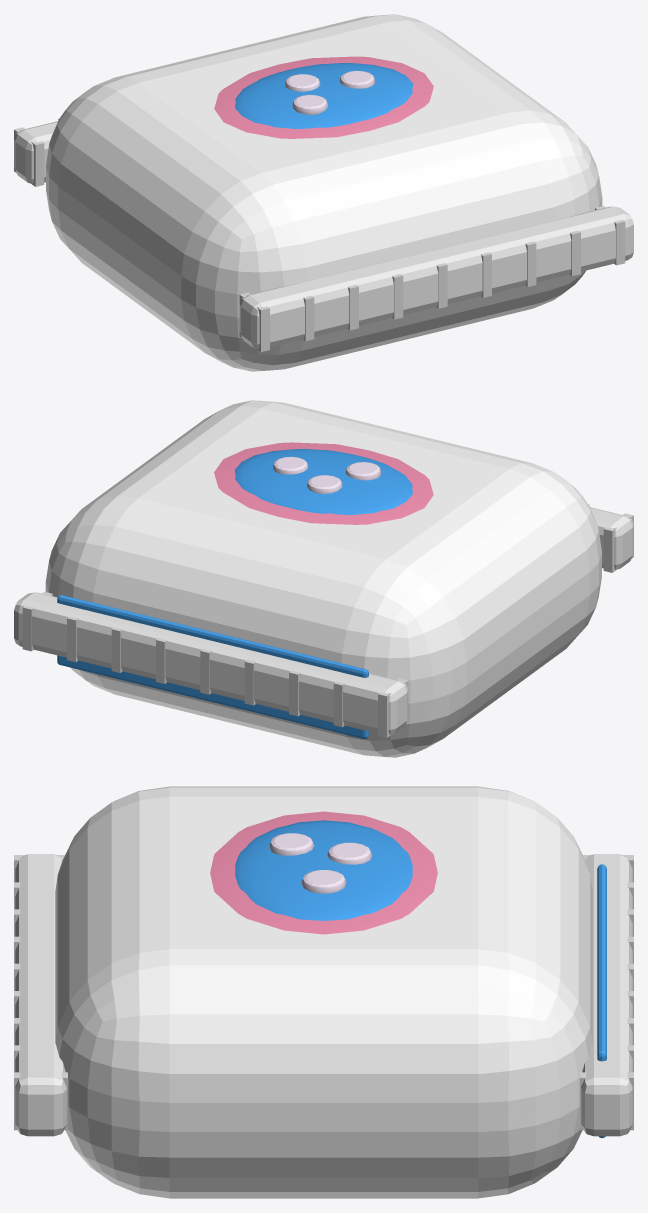
File: marshmallows.fbx
The picture shows the model from 3 angles, top to bottom: view 1: azimuth 30°, elevation 25°; view 2: azimuth 150°, elevation 25°; view 3: azimuth 270°, elevation 25°; orthographic projection. The views are drawn at different scales.
Parts seen in each view (by area): view 1: Industrial Marshmallows; view 2: Industrial Marshmallows; view 3: Industrial Marshmallows.
Boxes of the visible parts, x1,y1,x2,y2 form: Industrial Marshmallows: [14, 14, 633, 371]; Industrial Marshmallows: [14, 400, 633, 757]; Industrial Marshmallows: [14, 786, 633, 1198].
Bounding box in the file's own units: 1.84 × 0.875 × 1.93.
